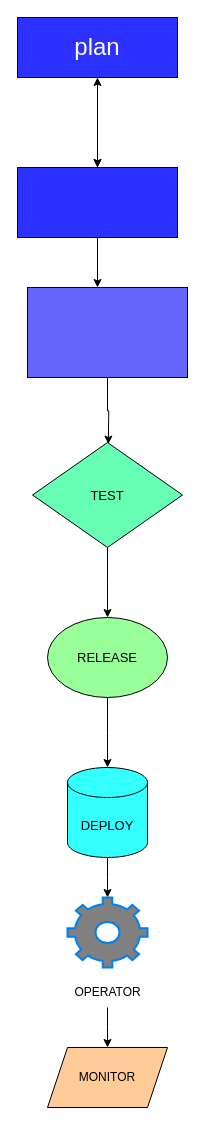
Some shapes in this 205 by 1125 pixel diagram are drawn without their labels. The centre of each missing label's shape, as x and y in pixels:
"B UILD" goes at [107,332].
"DEVELOP" goes at [97,202].
